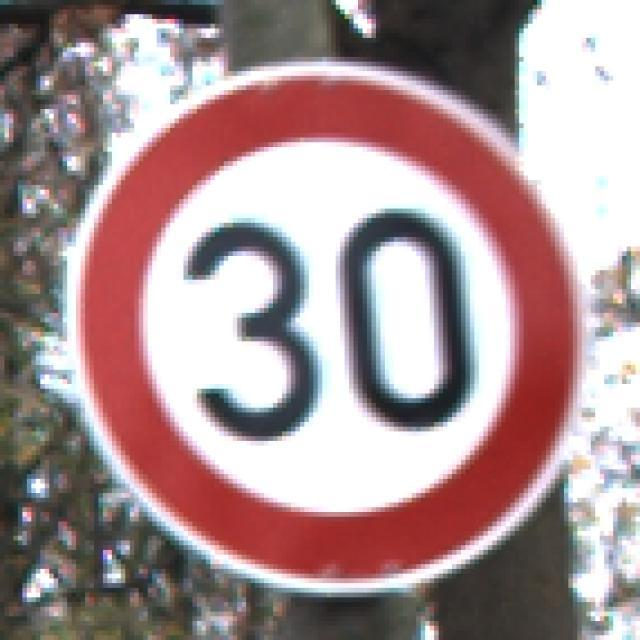Speed Limit -30-: (52, 50, 584, 581)
